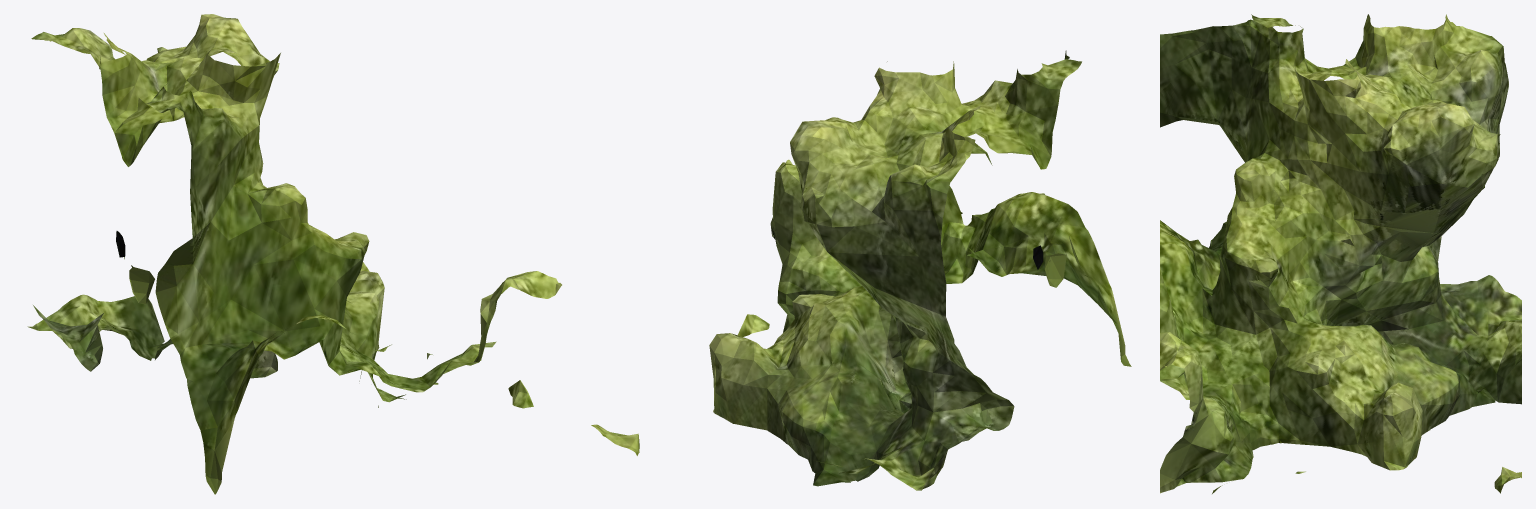
The picture shows the model from 3 angles, left to right: view 1: azimuth 30°, elevation 25°; view 2: azimuth 150°, elevation 25°; view 3: azimuth 270°, elevation 25°; orthographic projection. The views are drawn at different scales.
Size of the model in its own units: 2.95 by 2.95 by 2.95.
5 materials, 5 textured.
